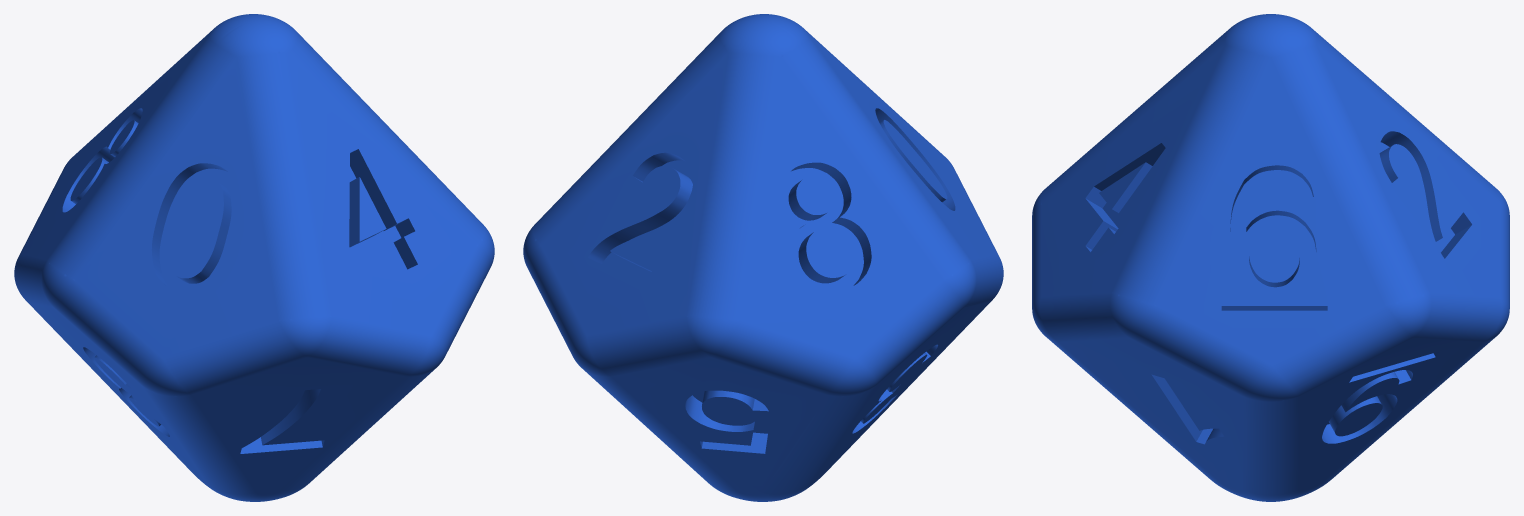
Rendered from Dado.obj.
3 views of the same model, side by side, from view 1: azimuth 30°, elevation 25°; view 2: azimuth 150°, elevation 25°; view 3: azimuth 270°, elevation 25° (orthographic).
Parts seen in each view (by area): view 1: d___10_faces; view 2: d___10_faces; view 3: d___10_faces.
Boxes of the visible parts, x1,y1,x2,y2 form: d___10_faces: [14, 14, 494, 501]; d___10_faces: [523, 14, 1003, 501]; d___10_faces: [1032, 14, 1509, 501].
Bounding box in the file's own units: 8.67 × 9.5 × 8.67.
1 material, 1 textured.
